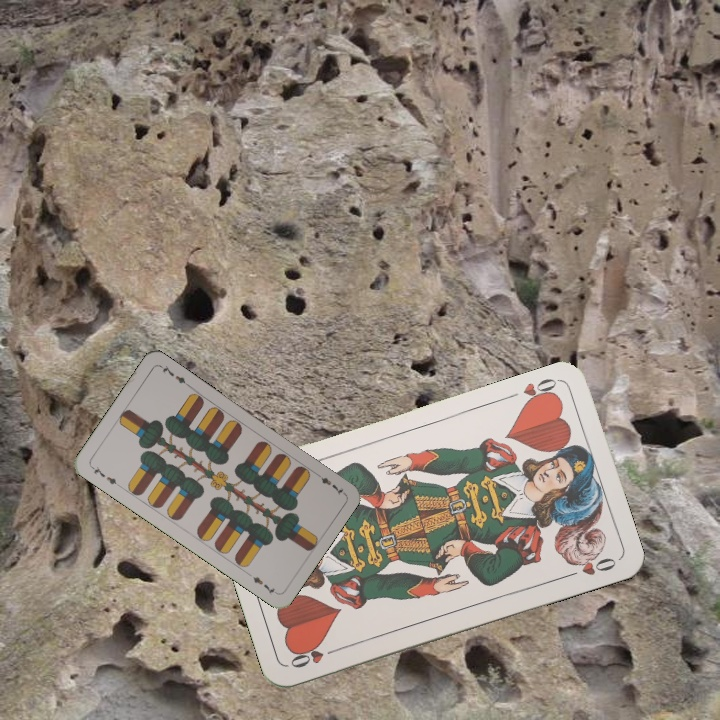E7: (311, 469, 347, 498), (87, 462, 123, 490)
HO: (286, 642, 343, 671), (519, 374, 561, 409)
